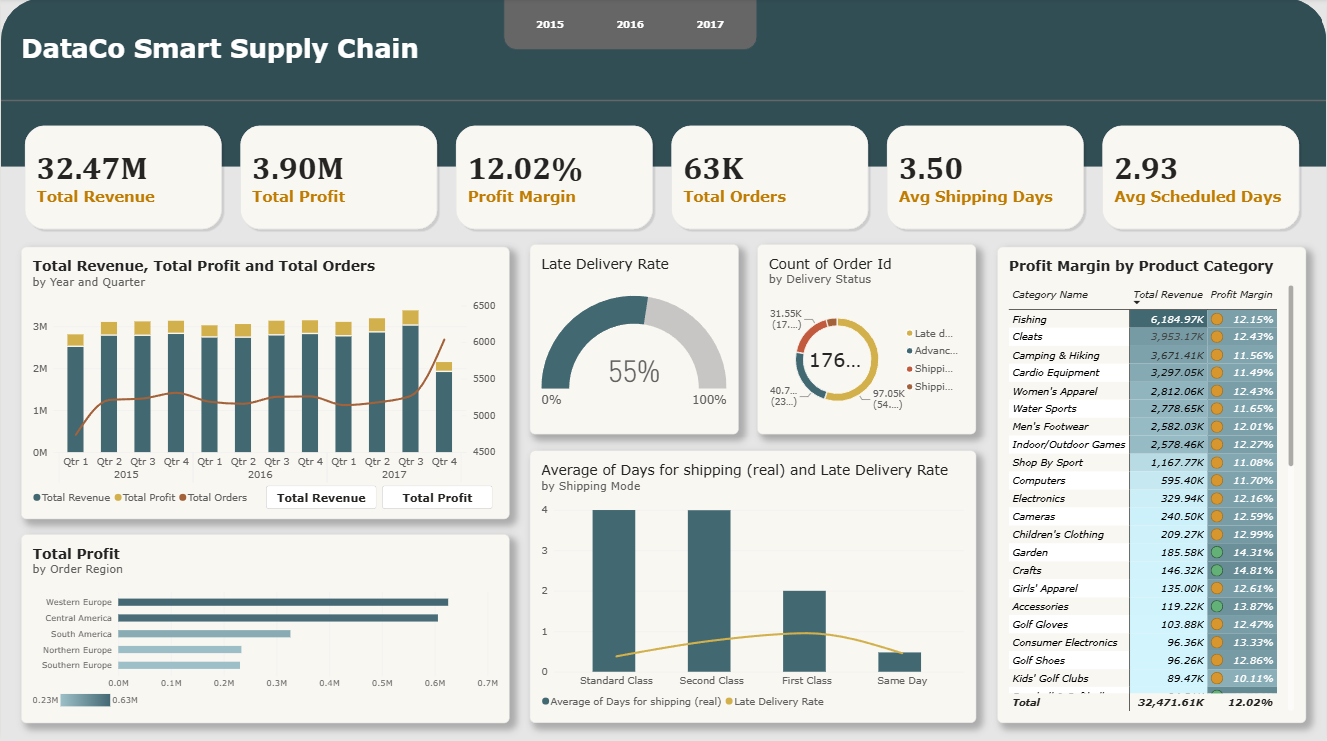

What the dashboard file says about the page in this screenshot:
{"tool":"powerbi","page":{"name":"Dashboard","canvas":[1920,1080],"ordinal":0},"visuals":[{"type":"shape","box":[0,0,1920,244.2],"z":0},{"type":"shape","box":[0,91.8,1920.1,112.2],"z":1000},{"type":"shape","box":[728.3,0,367.3,75.1],"z":2000},{"type":"advancedSlicerVisual","fields":{"Values":["DataCoSupplyChainDataset.order date (DateOrders).Variation.Date Hierarchy.Year"]},"box":[736.7,0,350.6,77.2],"z":3000},{"type":"textbox","box":[29.2,48,578.1,52.2],"z":4000},{"type":"cardVisual","fields":{"Data":["DataCoSupplyChainDataset.Total Revenue","DataCoSupplyChainDataset.Total Profit","DataCoSupplyChainDataset.Profit Margin","DataCoSupplyChainDataset.Total Orders","DataCoSupplyChainDataset.Average Shipping Days","DataCoSupplyChainDataset.Average Scheduled Shipping Days"]},"box":[29,179.2,1860.3,161.1],"z":5000},{"type":"lineStackedColumnComboChart","fields":{"Category":["DataCoSupplyChainDataset.order date (DateOrders).Variation.Date Hierarchy.Year","DataCoSupplyChainDataset.order date (DateOrders).Variation.Date Hierarchy.Quarter"],"Y":["DataCoSupplyChainDataset.Total Revenue","DataCoSupplyChainDataset.Total Profit"],"Y2":["DataCoSupplyChainDataset.Total Orders"]},"box":[29,360.1,707.6,394.5],"z":6000},{"type":"advancedSlicerVisual","fields":{"Values":["Select Metric.Select Metric"]},"box":[383.6,705.8,329.4,34.4],"z":7000},{"type":"clusteredBarChart","fields":{"Category":["DataCoSupplyChainDataset.Order Region"],"Y":["DataCoSupplyChainDataset.Total Profit"]},"box":[29,776.3,707.6,273.3],"z":8000},{"type":"pivotTable","title":"Profit Margin by Product Category","fields":{"Rows":["DataCoSupplyChainDataset.Category Name"],"Values":["DataCoSupplyChainDataset.Total Revenue","DataCoSupplyChainDataset.Profit Margin"]},"box":[1442.3,360.1,447,689.5],"z":9000},{"type":"gauge","fields":{"Y":["DataCoSupplyChainDataset.Late Delivery Rate"]},"box":[765.5,356.5,302.2,275.1],"z":10000},{"type":"donutChart","fields":{"Category":["DataCoSupplyChainDataset.Delivery Status"],"Y":["CountNonNull(DataCoSupplyChainDataset.Order Id)"]},"box":[1094.8,356.5,316.7,275.1],"z":11000},{"type":"lineClusteredColumnComboChart","fields":{"Category":["DataCoSupplyChainDataset.Shipping Mode"],"Y":["Avg(DataCoSupplyChainDataset.Days for shipping (real))"],"Y2":["DataCoSupplyChainDataset.Late Delivery Rate"]},"box":[765.5,655.1,646,394.5],"z":12000}]}

Visuals, with their boxes in screenshot pixels (x1, y1, x2, y2), scaled from the page's 1920x1080 canvas onto the 1327x741 screenshot:
shape: (x1=0, y1=0, x2=1326, y2=168)
shape: (x1=0, y1=63, x2=1326, y2=140)
shape: (x1=503, y1=0, x2=757, y2=52)
advancedSlicerVisual - DataCoSupplyChainDataset.order date (DateOrders).Variation.Date Hierarchy.Year: (x1=509, y1=0, x2=751, y2=53)
textbox: (x1=20, y1=33, x2=420, y2=69)
cardVisual - DataCoSupplyChainDataset.Total Revenue x DataCoSupplyChainDataset.Total Profit: (x1=20, y1=123, x2=1306, y2=233)
lineStackedColumnComboChart - DataCoSupplyChainDataset.order date (DateOrders).Variation.Date Hierarchy.Year x DataCoSupplyChainDataset.order date (DateOrders).Variation.Date Hierarchy.Quarter: (x1=20, y1=247, x2=509, y2=518)
advancedSlicerVisual - Select Metric.Select Metric: (x1=265, y1=484, x2=493, y2=508)
clusteredBarChart - DataCoSupplyChainDataset.Order Region x DataCoSupplyChainDataset.Total Profit: (x1=20, y1=533, x2=509, y2=720)
"Profit Margin by Product Category" pivotTable: (x1=997, y1=247, x2=1306, y2=720)
gauge - DataCoSupplyChainDataset.Late Delivery Rate: (x1=529, y1=245, x2=738, y2=433)
donutChart - DataCoSupplyChainDataset.Delivery Status x CountNonNull(DataCoSupplyChainDataset.Order Id): (x1=757, y1=245, x2=976, y2=433)
lineClusteredColumnComboChart - DataCoSupplyChainDataset.Shipping Mode x Avg(DataCoSupplyChainDataset.Days for shipping (real)): (x1=529, y1=449, x2=976, y2=720)
